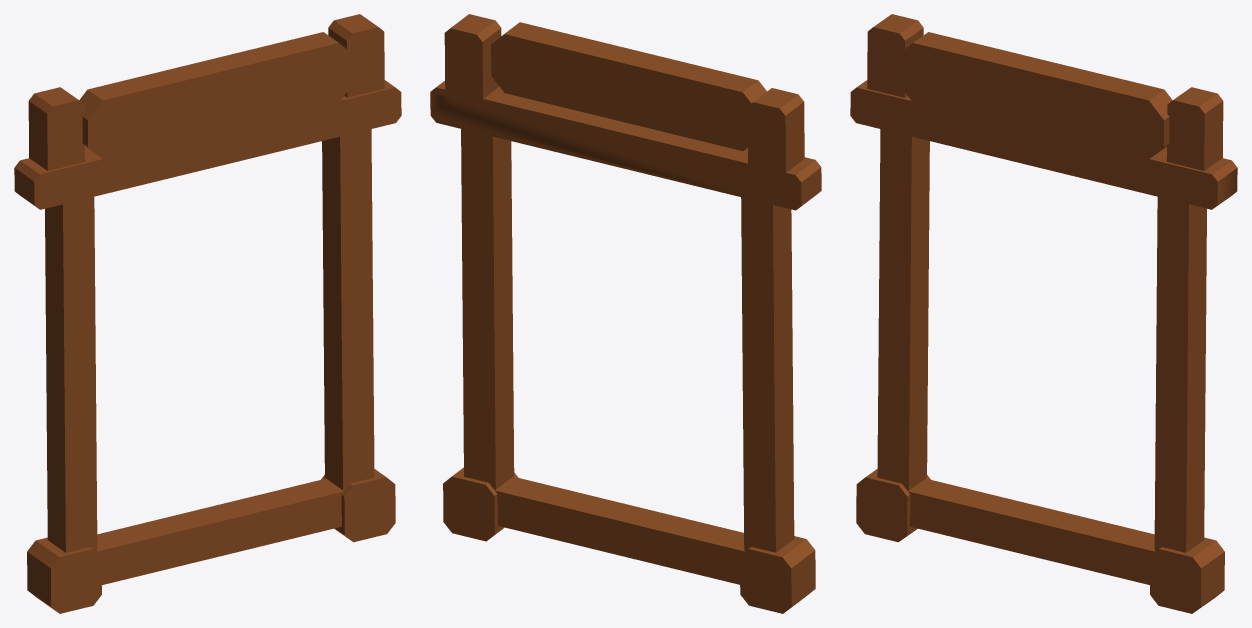
The model's file is LeaderboardMarco.fbx.
3 renders of one model, left to right at view 1: azimuth 30°, elevation 25°; view 2: azimuth 150°, elevation 25°; view 3: azimuth 330°, elevation 25°, orthographic.
Parts seen in each view (by area): view 1: Cartel; view 2: Cartel; view 3: Cartel.
Boxes of the visible parts, <box> form: Cartel: <box>14,14,401,613</box>; Cartel: <box>430,14,821,613</box>; Cartel: <box>850,14,1237,613</box>.
Size of the model in its own units: 3.3 by 4.31 by 0.4107.
